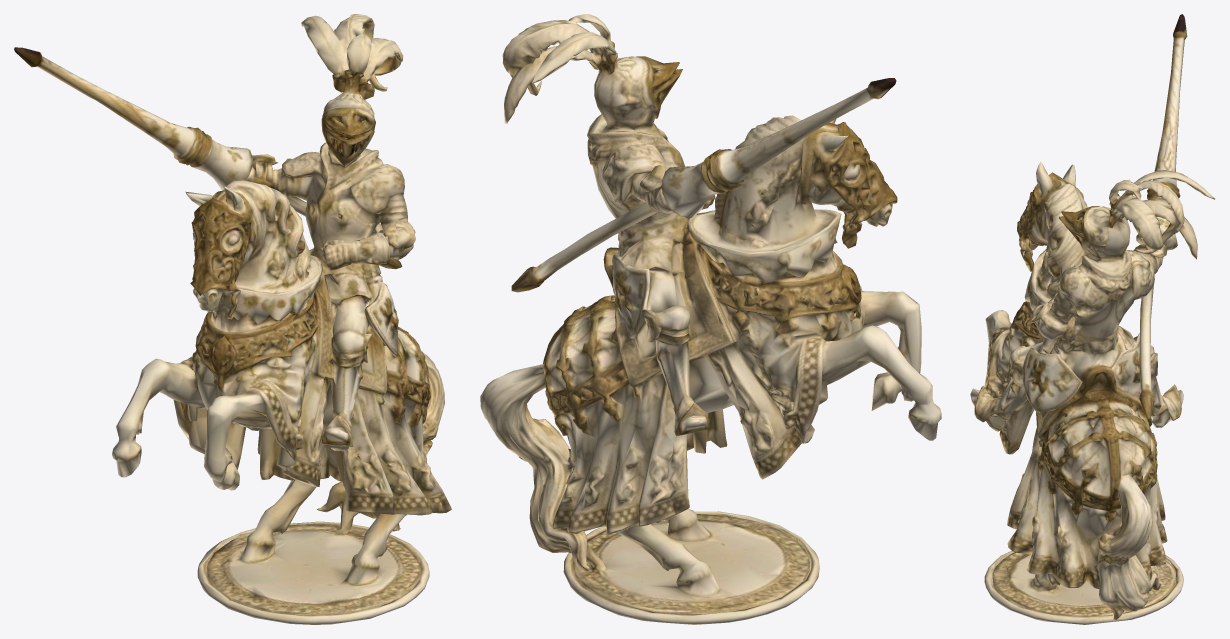
Rendered from knight.glb.
The picture shows the model from 3 angles, left to right: view 1: azimuth 30°, elevation 25°; view 2: azimuth 150°, elevation 25°; view 3: azimuth 270°, elevation 25°; orthographic projection. The views are drawn at different scales.
Bounding box in the file's own units: 1.46 × 1.9 × 0.8997.
Materials: 1 (1 with a texture image).
